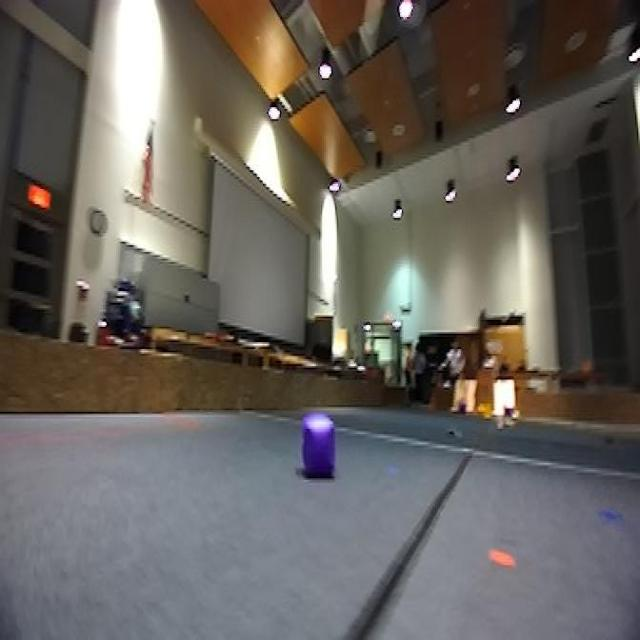frc_cube: (299, 414, 339, 482)
